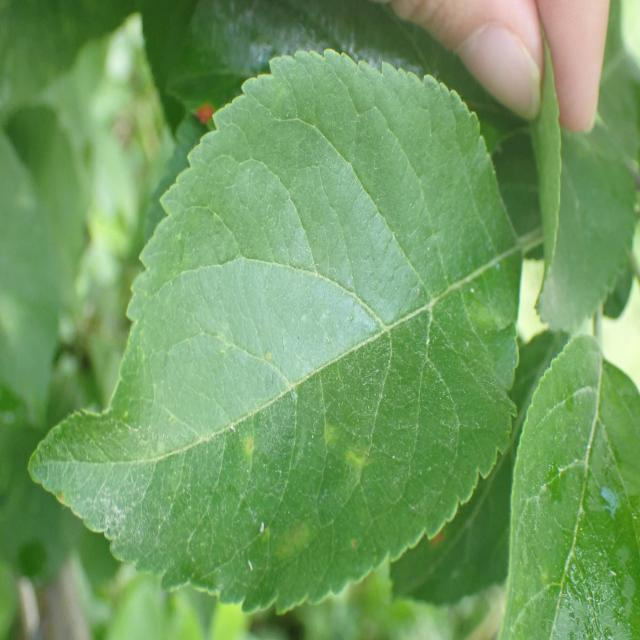scab: (79, 196, 514, 570)
